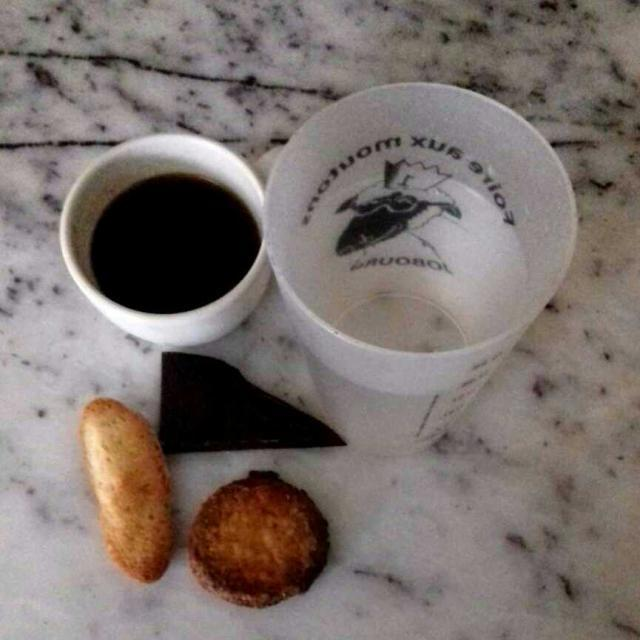biscuits: (74, 400, 331, 601)
chocolate: (160, 352, 382, 461)
coffee: (85, 174, 257, 312)
water: (282, 166, 538, 462)
